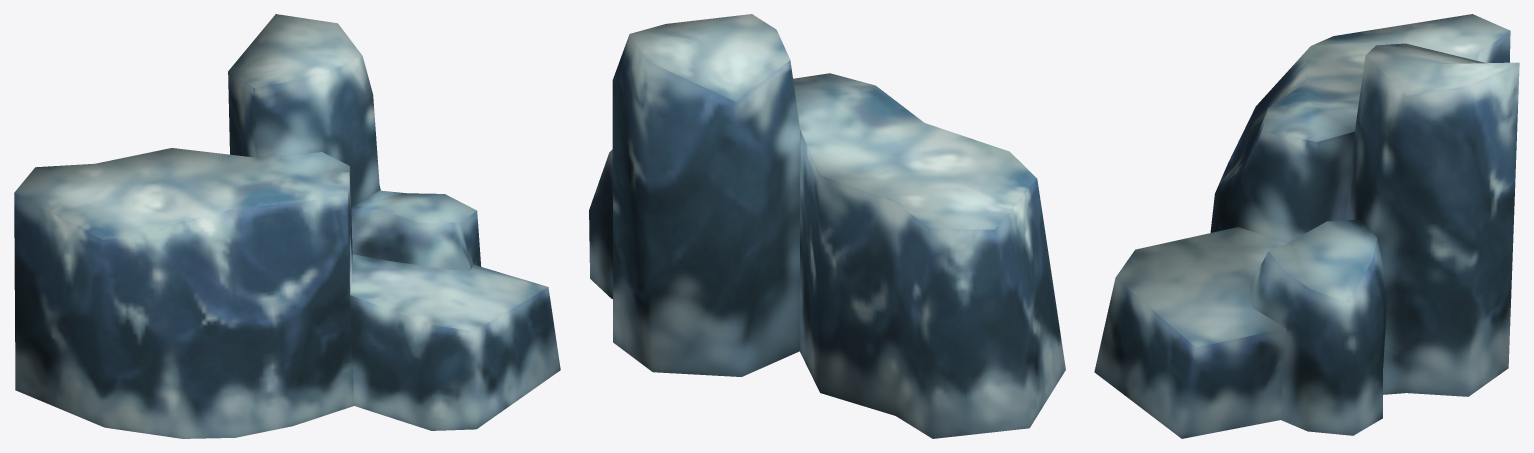
Rendered from Stage_BingYuan_ShanShi08.FBX.
The picture shows the model from 3 angles, left to right: view 1: azimuth 30°, elevation 25°; view 2: azimuth 150°, elevation 25°; view 3: azimuth 270°, elevation 25°; orthographic projection. The views are drawn at different scales.
Parts seen in each view (by area): view 1: Stage_BingYuan_ShanShi08; view 2: Stage_BingYuan_ShanShi08; view 3: Stage_BingYuan_ShanShi08.
Boxes of the visible parts, x1=… form: Stage_BingYuan_ShanShi08: x1=14, y1=14, x2=560, y2=438; Stage_BingYuan_ShanShi08: x1=589, y1=14, x2=1065, y2=438; Stage_BingYuan_ShanShi08: x1=1094, y1=14, x2=1519, y2=438.
Bounding box in the file's own units: 521 × 320 × 404.
